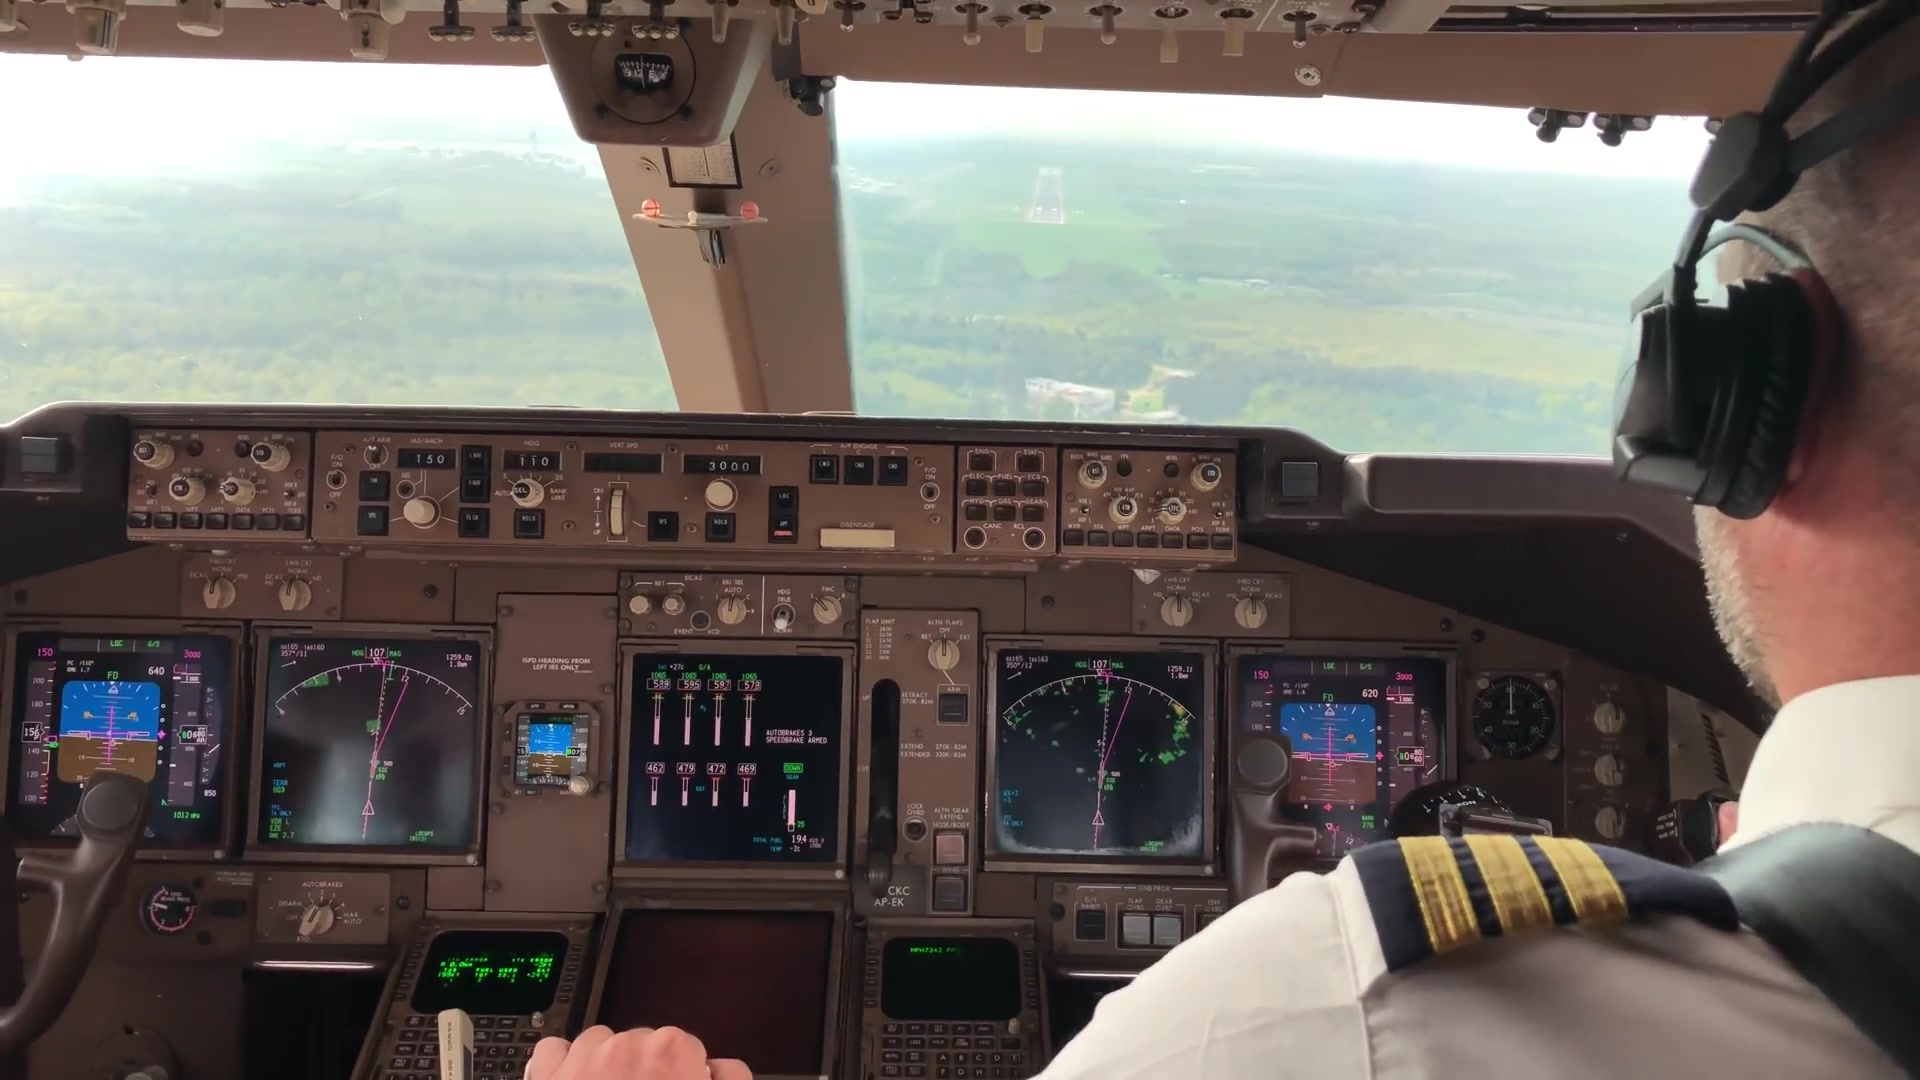runway: (1029, 169, 1064, 225)
